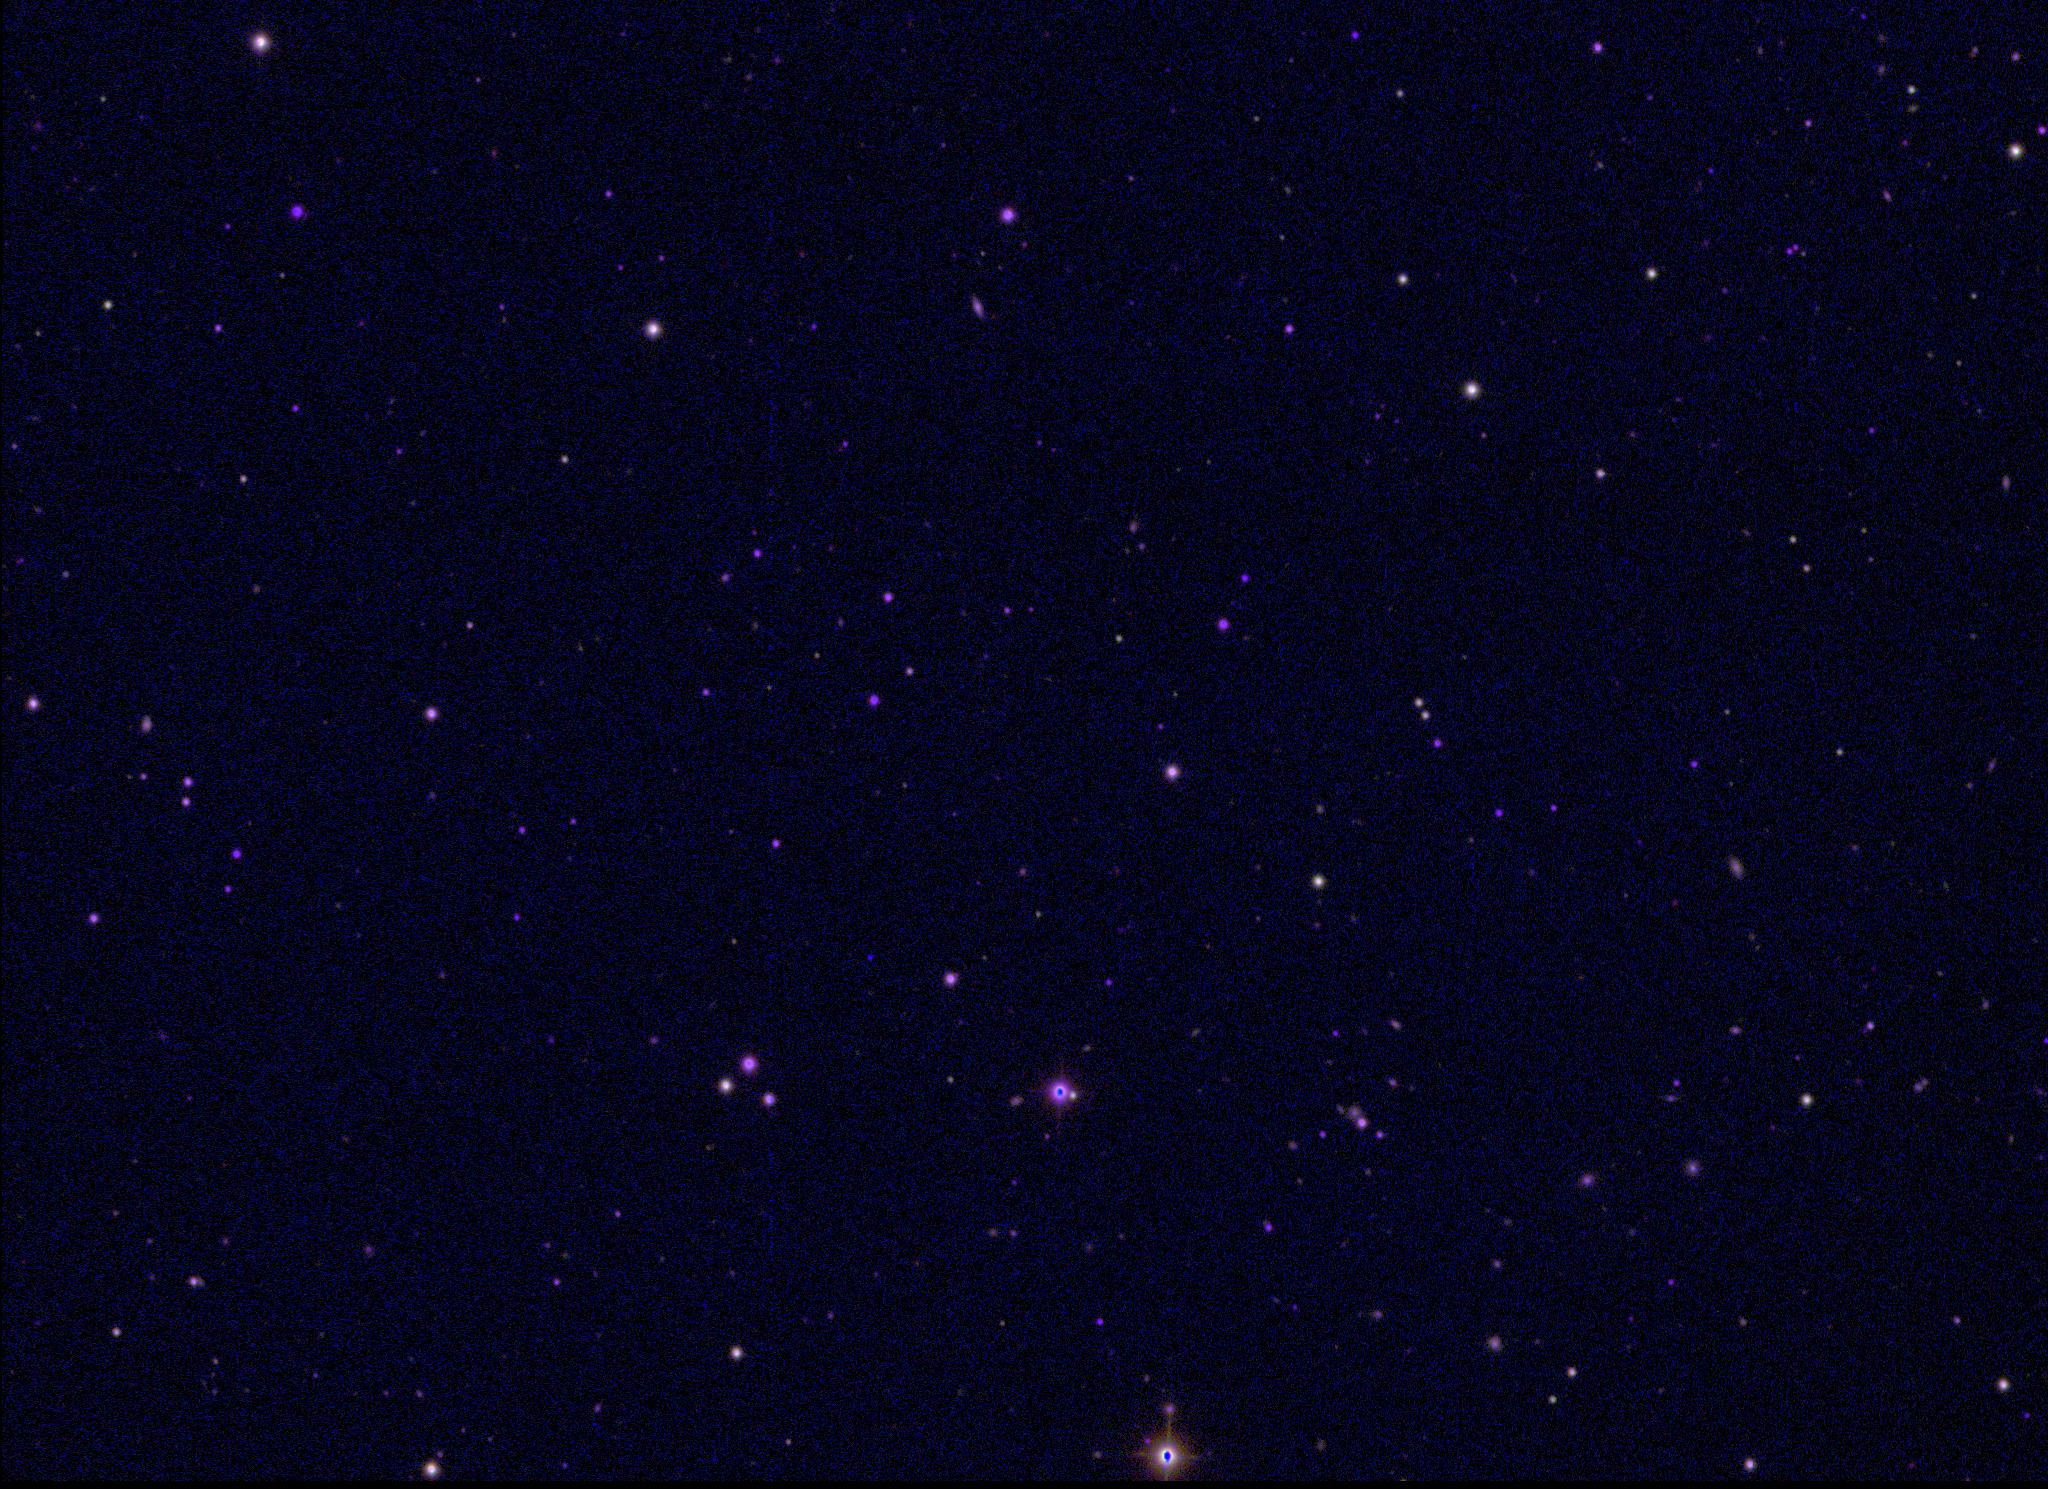L: (863, 951, 878, 966)
